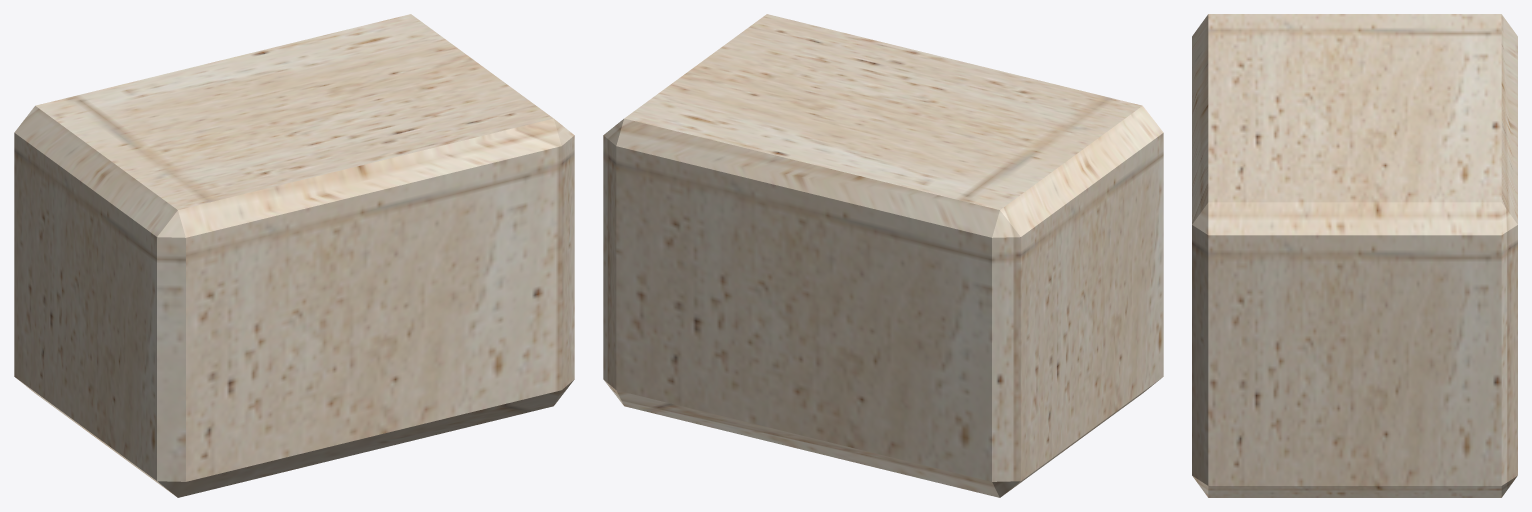
Rendered from boxlimestone.glb.
3 views of the same model, side by side, from view 1: azimuth 30°, elevation 25°; view 2: azimuth 150°, elevation 25°; view 3: azimuth 270°, elevation 25° (orthographic). The views are drawn at different scales.
Visible parts, largest first — view 1: Cube; view 2: Cube; view 3: Cube.
Part boxes in pixels (box(x1,y1,x2,y2)): Cube: box(14, 14, 574, 497); Cube: box(603, 14, 1163, 497); Cube: box(1192, 14, 1517, 497).
Bounding box in the file's own units: 2 × 1.32 × 1.32.
Materials: 1 (1 with a texture image).
